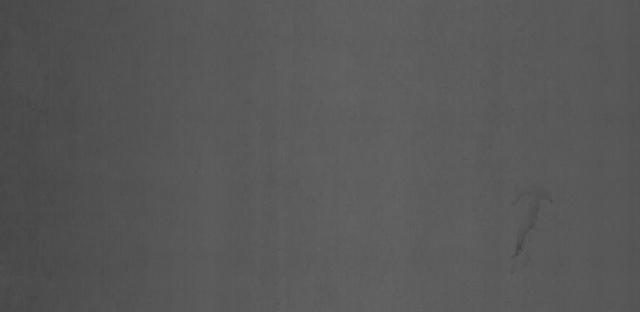water_spot: (484, 180, 558, 268)
